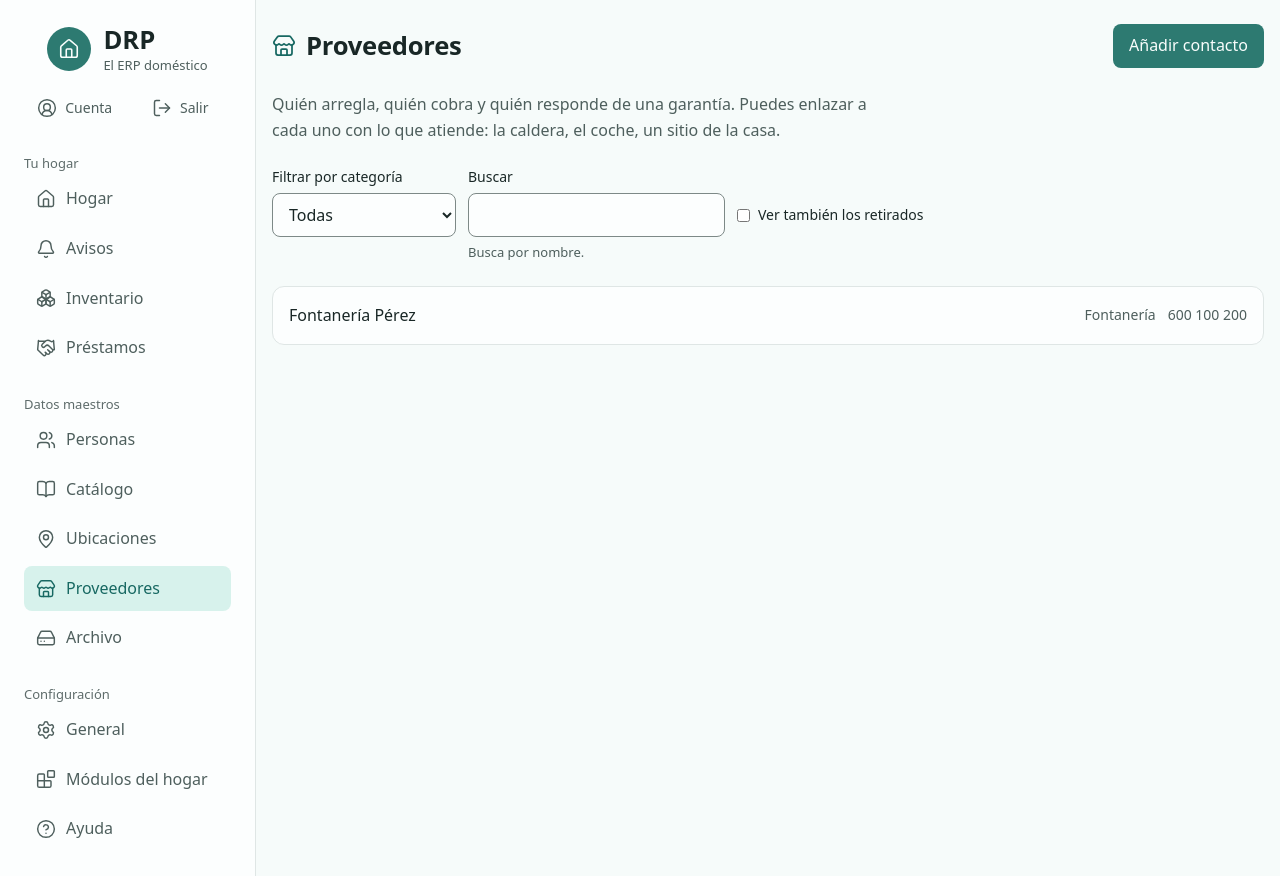
Test: listado de contactos de servicio › con un filtro puesto y sin resultados, dice que es el filtro
The width and height of the screenshot is (1280, 876).
Expected: the heading "Proveedores" is shown, [306,30,462,62]
Expected: the text "Fontanería Pérez" is shown, [289,303,416,328]
Select "Vehículos" in the dropdown labelled "Filtrar por categoría" at [364, 216], box [272,194,456,238]
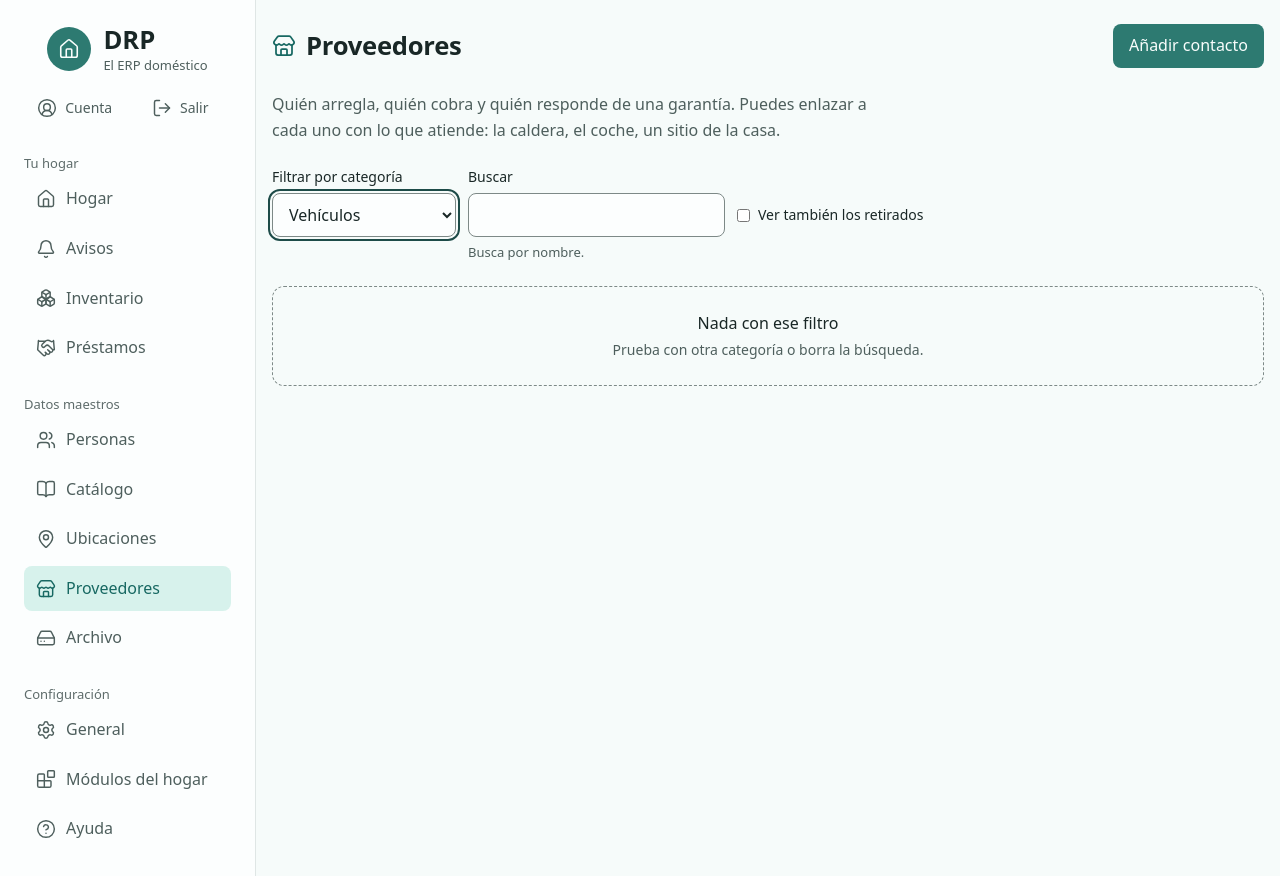
Result: the text "Nada con ese filtro" is shown at [698,312,838,334]
